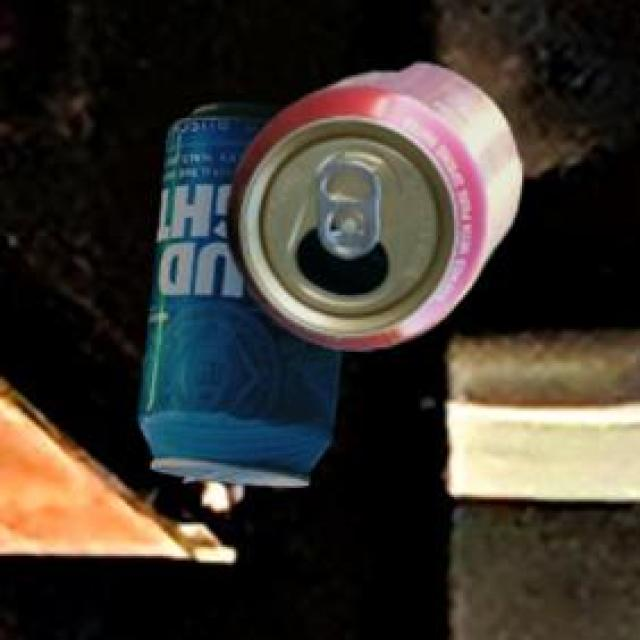logam: (230, 67, 525, 353), (142, 106, 344, 489)
